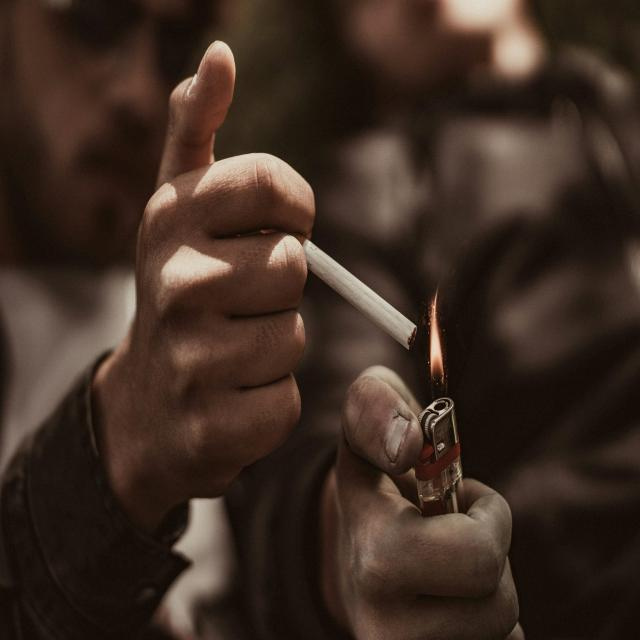fire: (431, 286, 444, 384)
